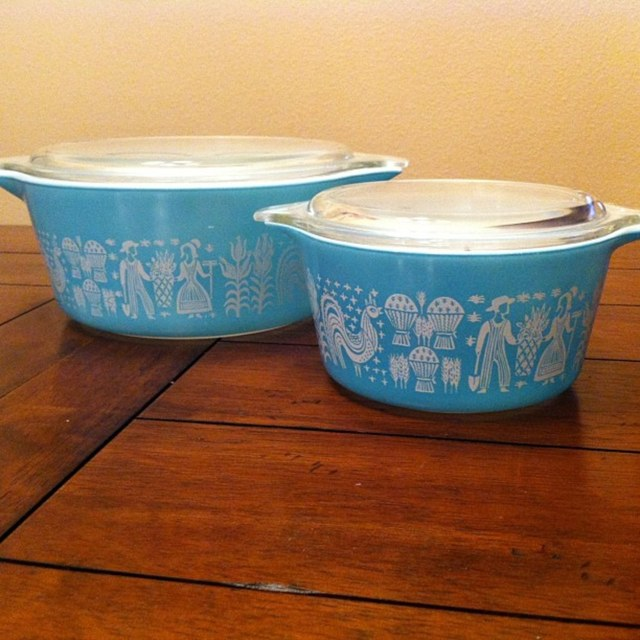bowl: (0, 119, 431, 350), (253, 179, 640, 414)
